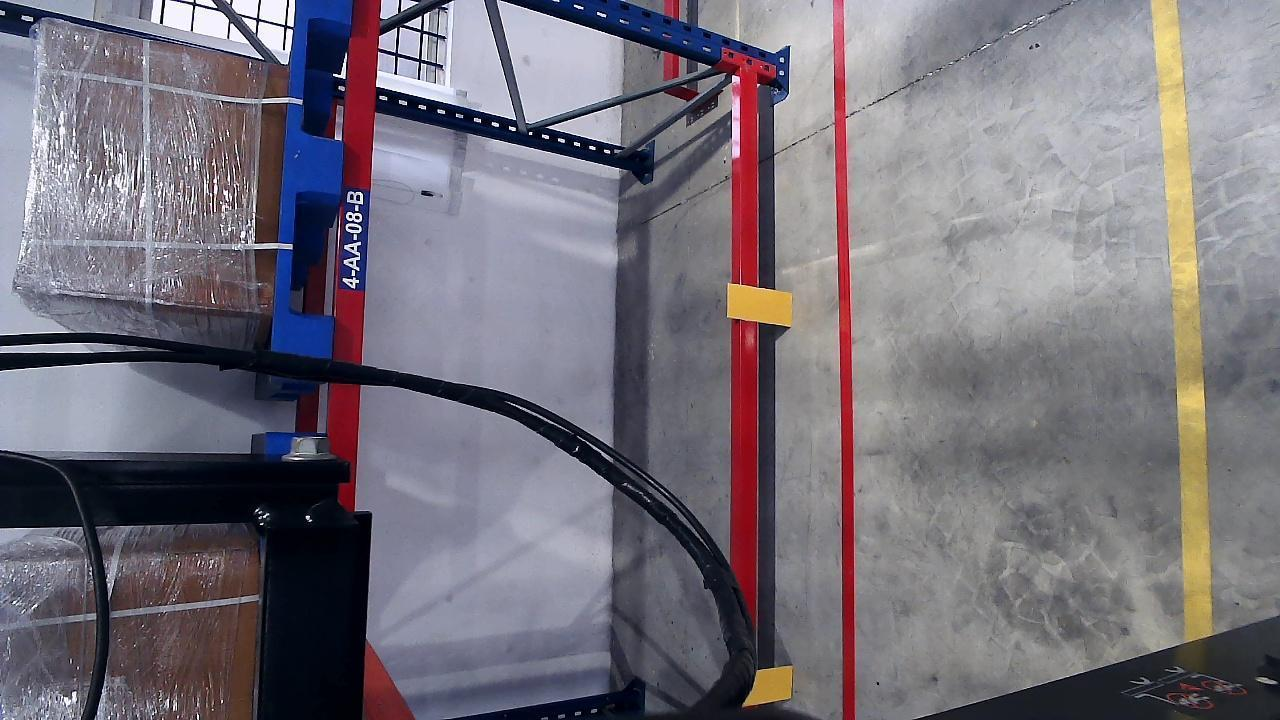red_line: (827, 0, 858, 715)
yellow_line: (1146, 0, 1211, 638)
